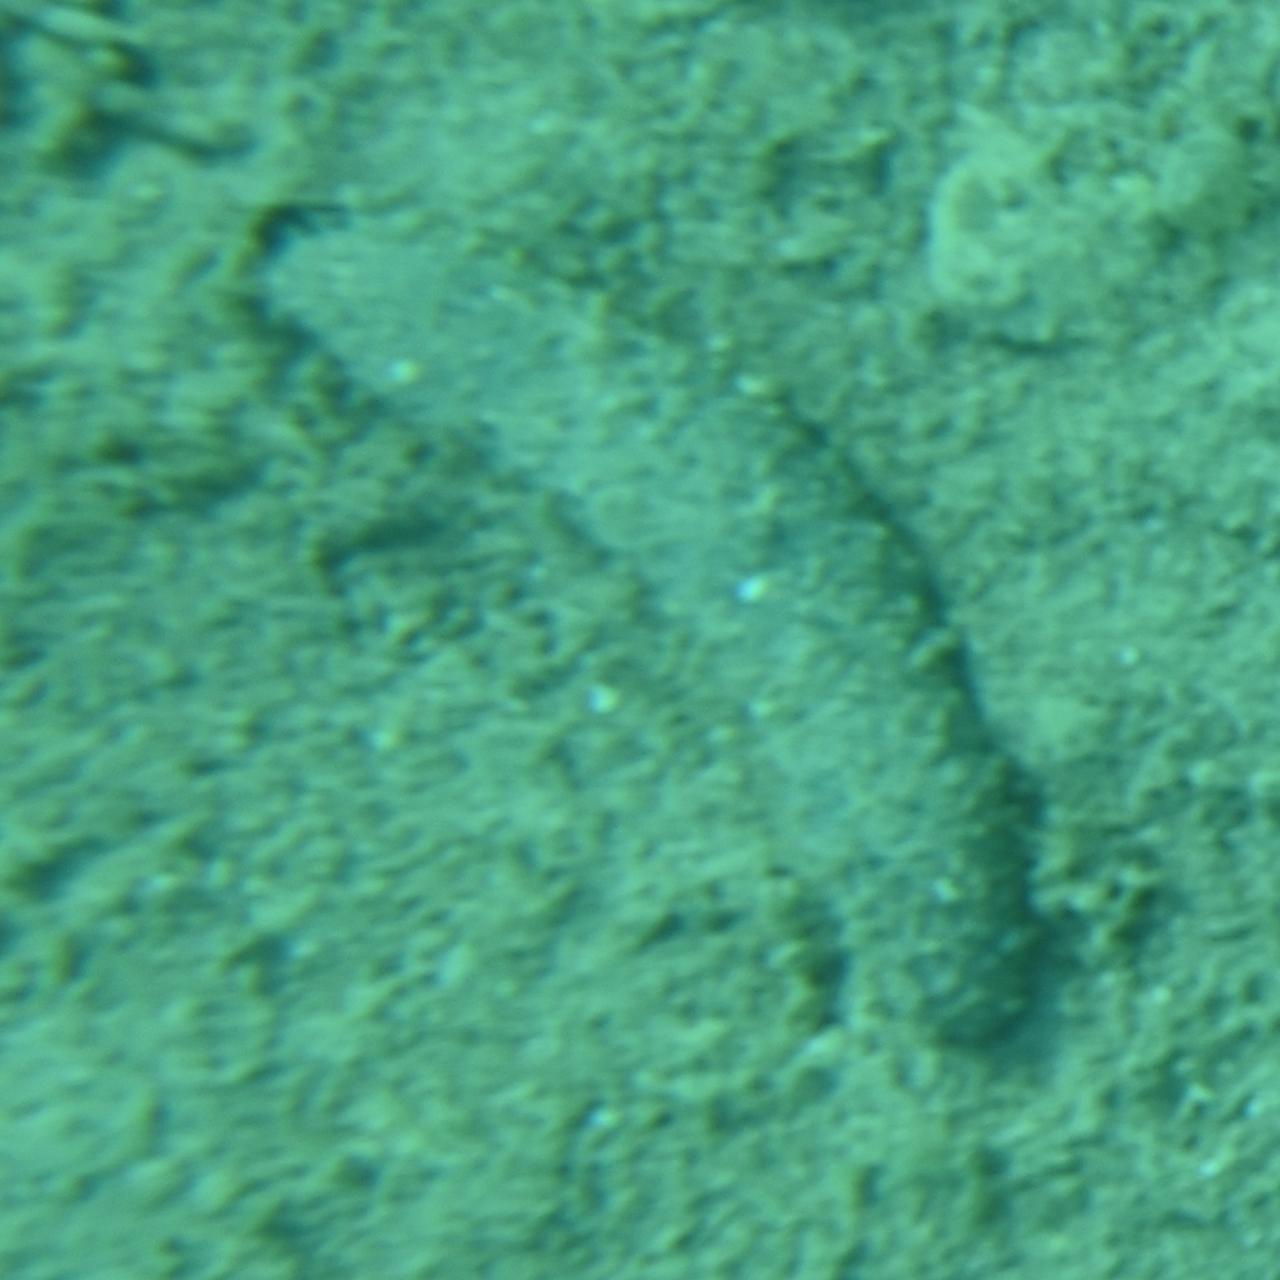Holothuria tubulosa: (220, 190, 1060, 1090)
